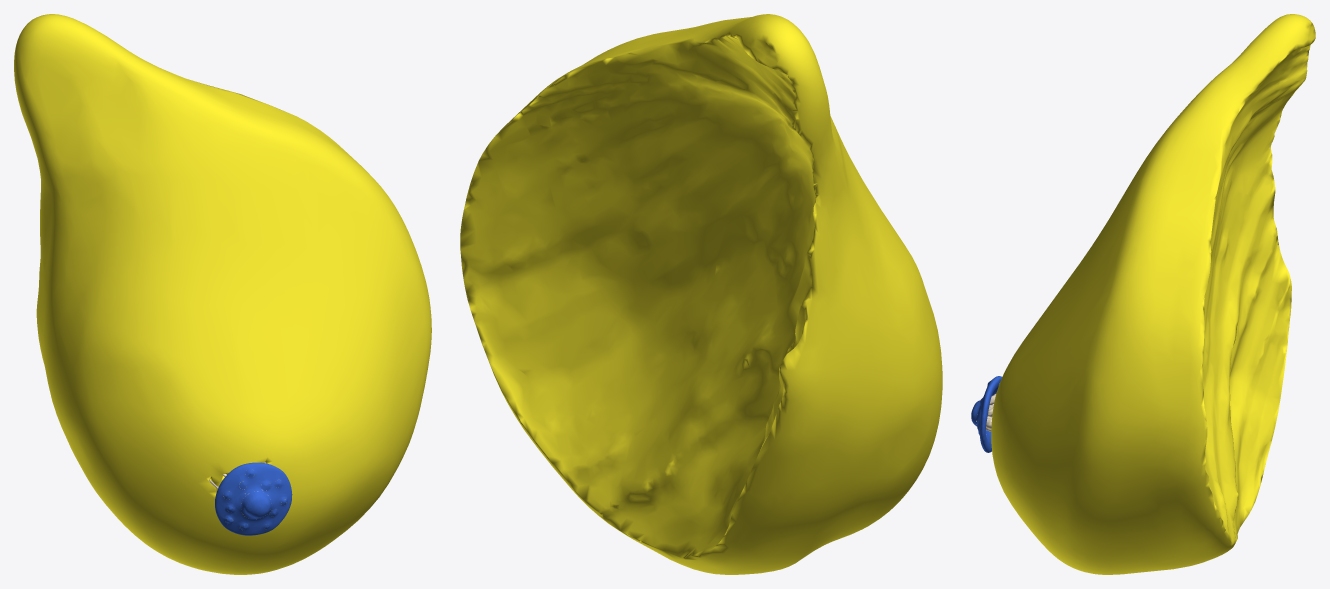
The model's file is 3d-vh-f-mammary-gland-r-20.glb.
The picture shows the model from 3 angles, left to right: view 1: azimuth 30°, elevation 25°; view 2: azimuth 150°, elevation 25°; view 3: azimuth 270°, elevation 25°; orthographic projection. The views are drawn at different scales.
Parts seen in each view (by area): view 1: VH_F_fat_R, VH_F_areola_R, VH_F_nipple_R, VH_F_areolar_tubercles_R; view 2: VH_F_fat_R; view 3: VH_F_fat_R, VH_F_areola_R.
Part boxes in pixels (x1,y1,x2,y2): VH_F_fat_R: (14, 14, 431, 574); VH_F_areola_R: (215, 462, 292, 535); VH_F_nipple_R: (241, 491, 271, 519); VH_F_areolar_tubercles_R: (223, 468, 286, 530); VH_F_fat_R: (460, 14, 942, 574); VH_F_fat_R: (991, 14, 1315, 574); VH_F_areola_R: (976, 376, 1002, 452).
Size of the model in its own units: 0.1283 by 0.18 by 0.1132.
